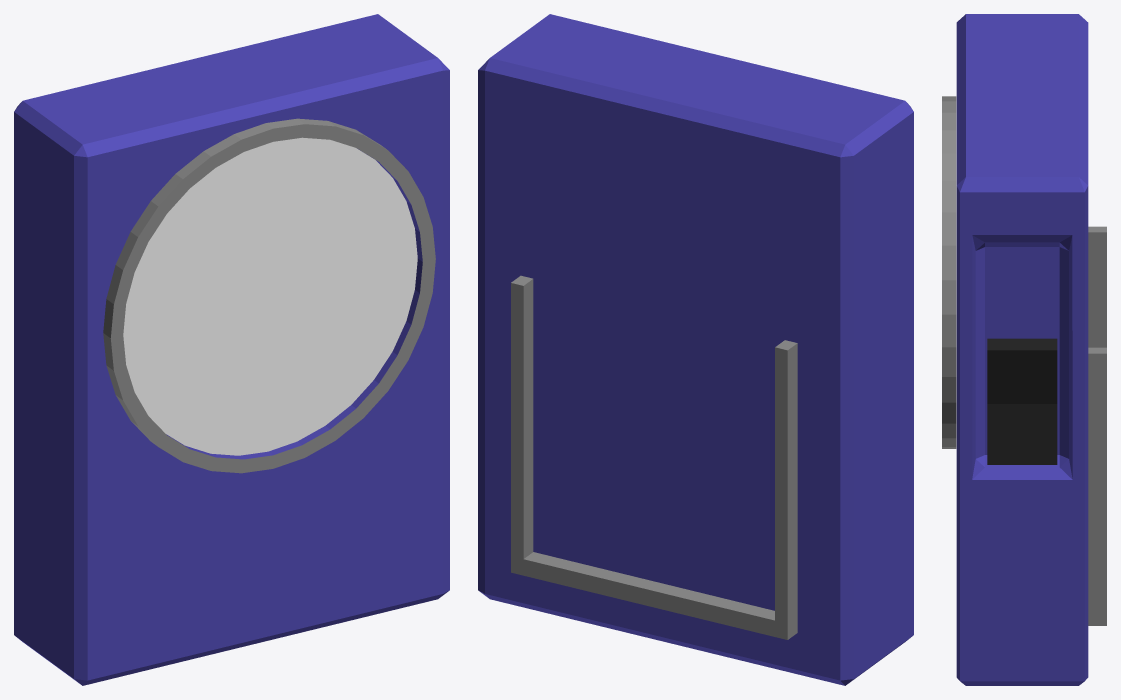
The model's file is flashlight1.glb.
3 views of the same model, side by side, from view 1: azimuth 30°, elevation 25°; view 2: azimuth 150°, elevation 25°; view 3: azimuth 270°, elevation 25° (orthographic). The views are drawn at different scales.
Parts seen in each view (by area): view 1: Cylinder; view 2: Cylinder; view 3: Cylinder.
Boxes of the visible parts, x1,y1,x2,y2 form: Cylinder: (14,14,449,685); Cylinder: (478,14,913,685); Cylinder: (942,14,1106,685).
Size of the model in its own units: 3.29 by 4.41 by 1.29.
